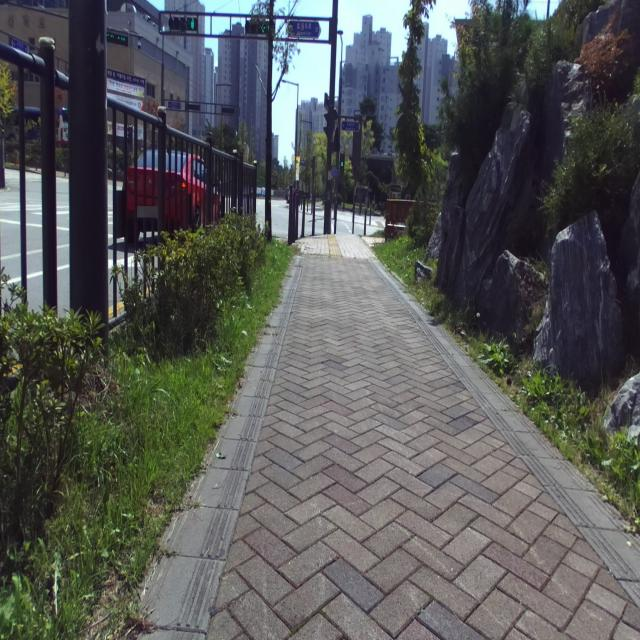초록불: (339, 150, 345, 184)
